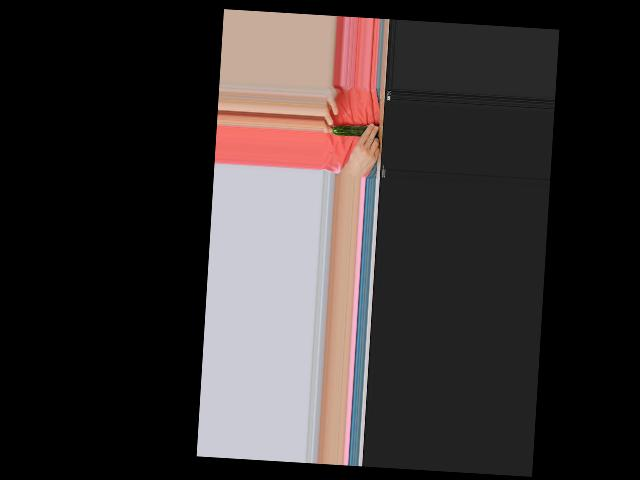cucumber: (331, 124, 368, 137)
